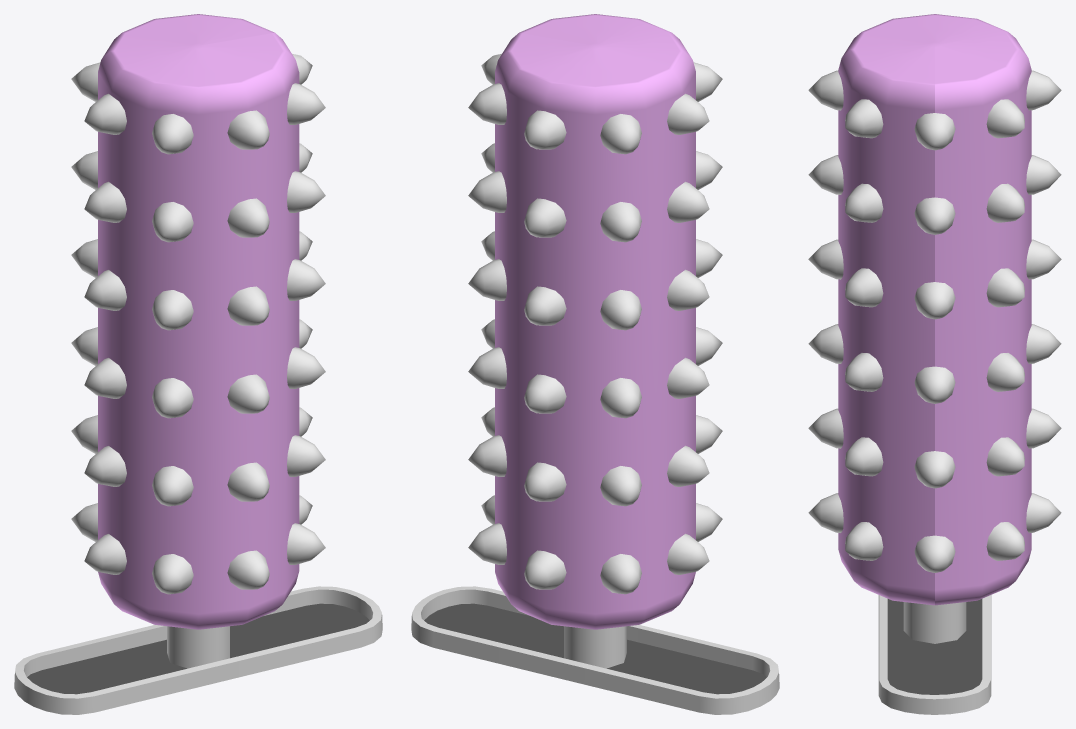
The model's file is Obstacle_40.fbx.
The picture shows the model from 3 angles, left to right: view 1: azimuth 30°, elevation 25°; view 2: azimuth 150°, elevation 25°; view 3: azimuth 270°, elevation 25°; orthographic projection. The views are drawn at different scales.
Parts seen in each view (by area): view 1: Quay, De; view 2: Quay, De; view 3: Quay, De.
Boxes of the visible parts, bbox=[...] form: Quay: bbox=[71, 14, 325, 668]; De: bbox=[14, 586, 382, 714]; Quay: bbox=[468, 14, 722, 668]; De: bbox=[411, 586, 779, 714]; Quay: bbox=[808, 14, 1061, 643]; De: bbox=[878, 595, 991, 714].
Bounding box in the file's own units: 1.79 × 3 × 1.17.
